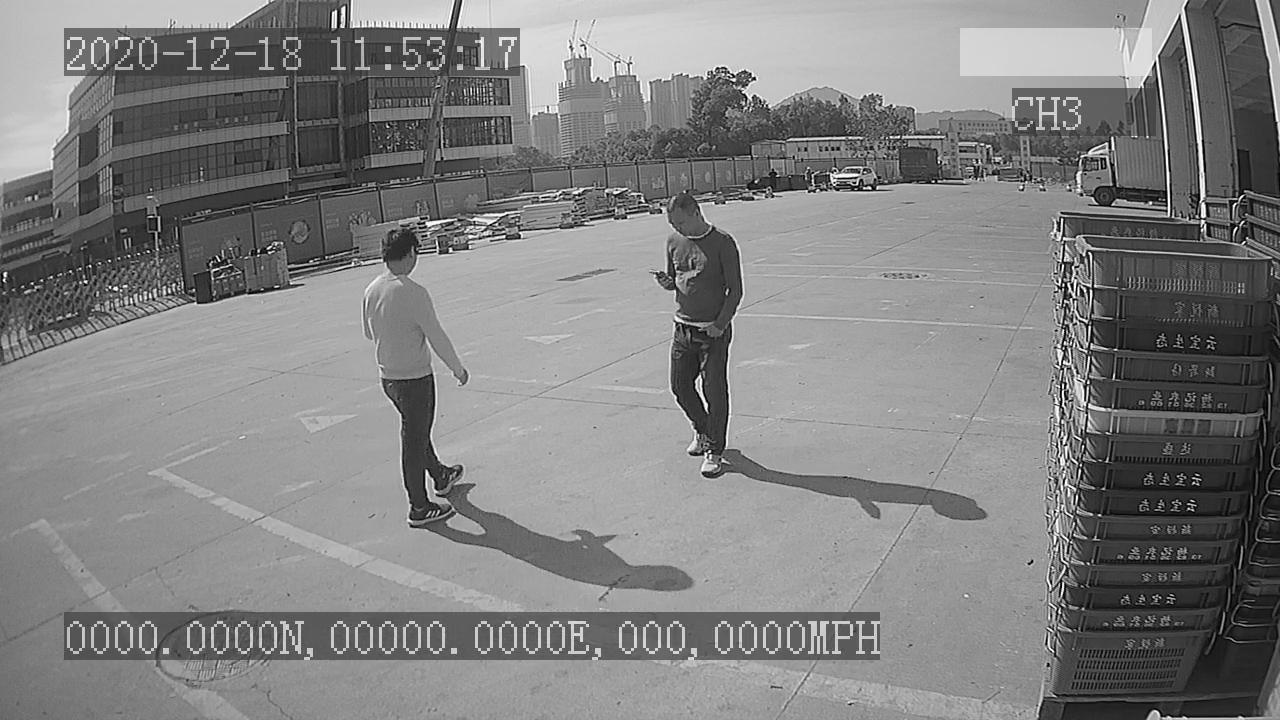person: (352, 220, 479, 536), (642, 188, 749, 486)
